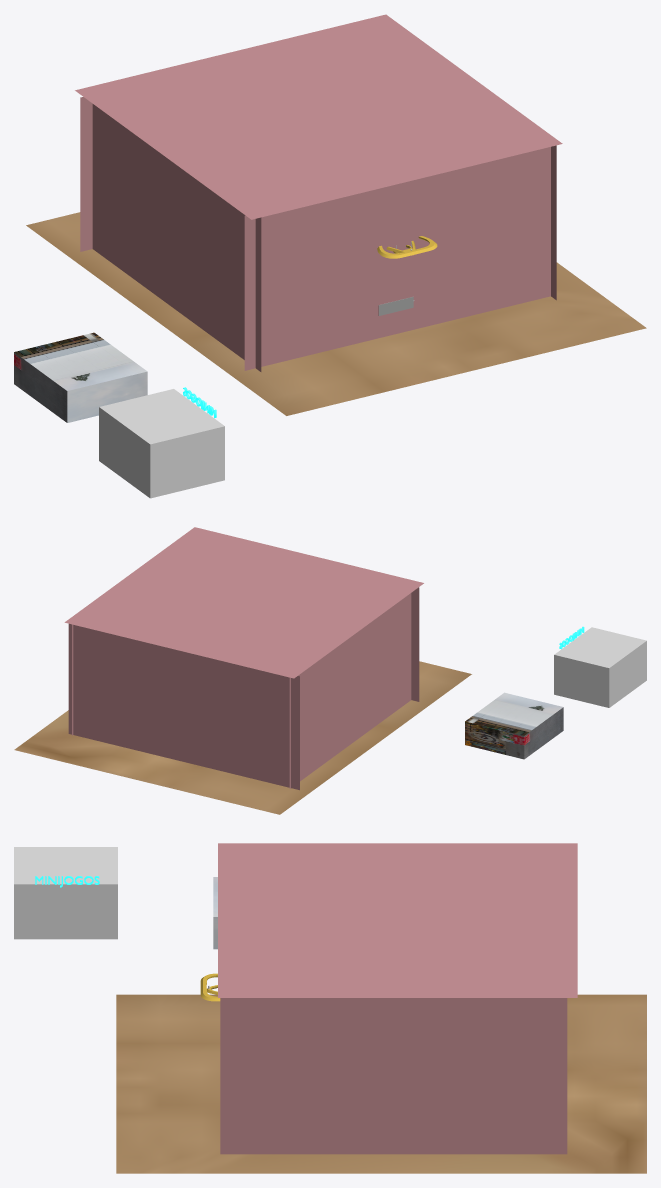
Rendered from VRGAmeHub.fbx.
The picture shows the model from 3 angles, top to bottom: view 1: azimuth 30°, elevation 25°; view 2: azimuth 150°, elevation 25°; view 3: azimuth 270°, elevation 25°; orthographic projection. The views are drawn at different scales.
Visible parts, largest first — view 1: Plane.004, Plane, Floor, Plane.003, Cube.004, Cube.001, Plane.001, Plane.002; view 2: Plane.004, Plane.001, Plane.003, Floor, Cube.004, Cube.001, Plane; view 3: Plane.004, Plane.002, Floor, Cube.004.
Part boxes in pixels (x1,y1,x2,y2): Plane.004: (75,14,562,219); Plane: (244,147,550,370); Floor: (26,212,646,415); Plane.003: (92,104,261,371); Cube.004: (99,389,224,498); Cube.001: (14,332,147,422); Plane.001: (80,97,92,251); Plane.002: (551,145,556,300); Plane.004: (64,527,423,678); Plane.001: (68,623,299,790); Plane.003: (289,593,411,788); Floor: (14,661,471,814); Cube.004: (554,627,646,707); Cube.001: (465,692,563,759); Plane: (411,587,419,701); Plane.004: (218,843,577,997); Plane.002: (220,998,567,1154); Floor: (116,994,646,1173); Cube.004: (14,847,117,939).
Size of the model in its own units: 7411 by 2149 by 7298.
11 materials, 3 textured.
